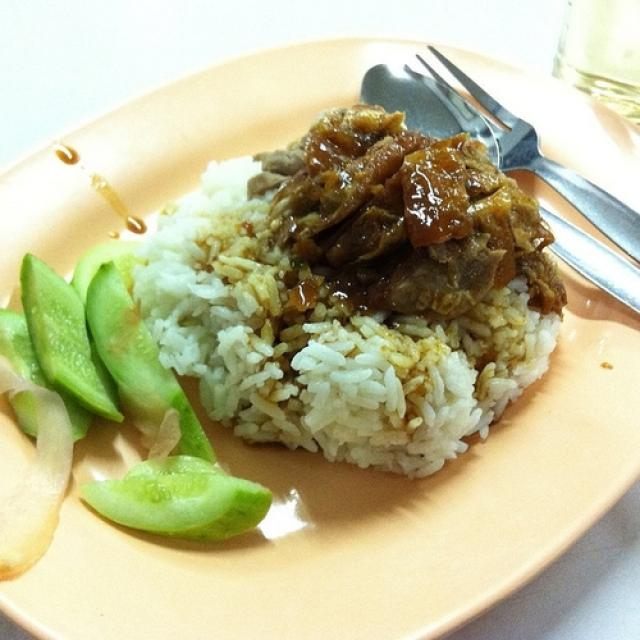米饭主食: (22, 44, 621, 602)
